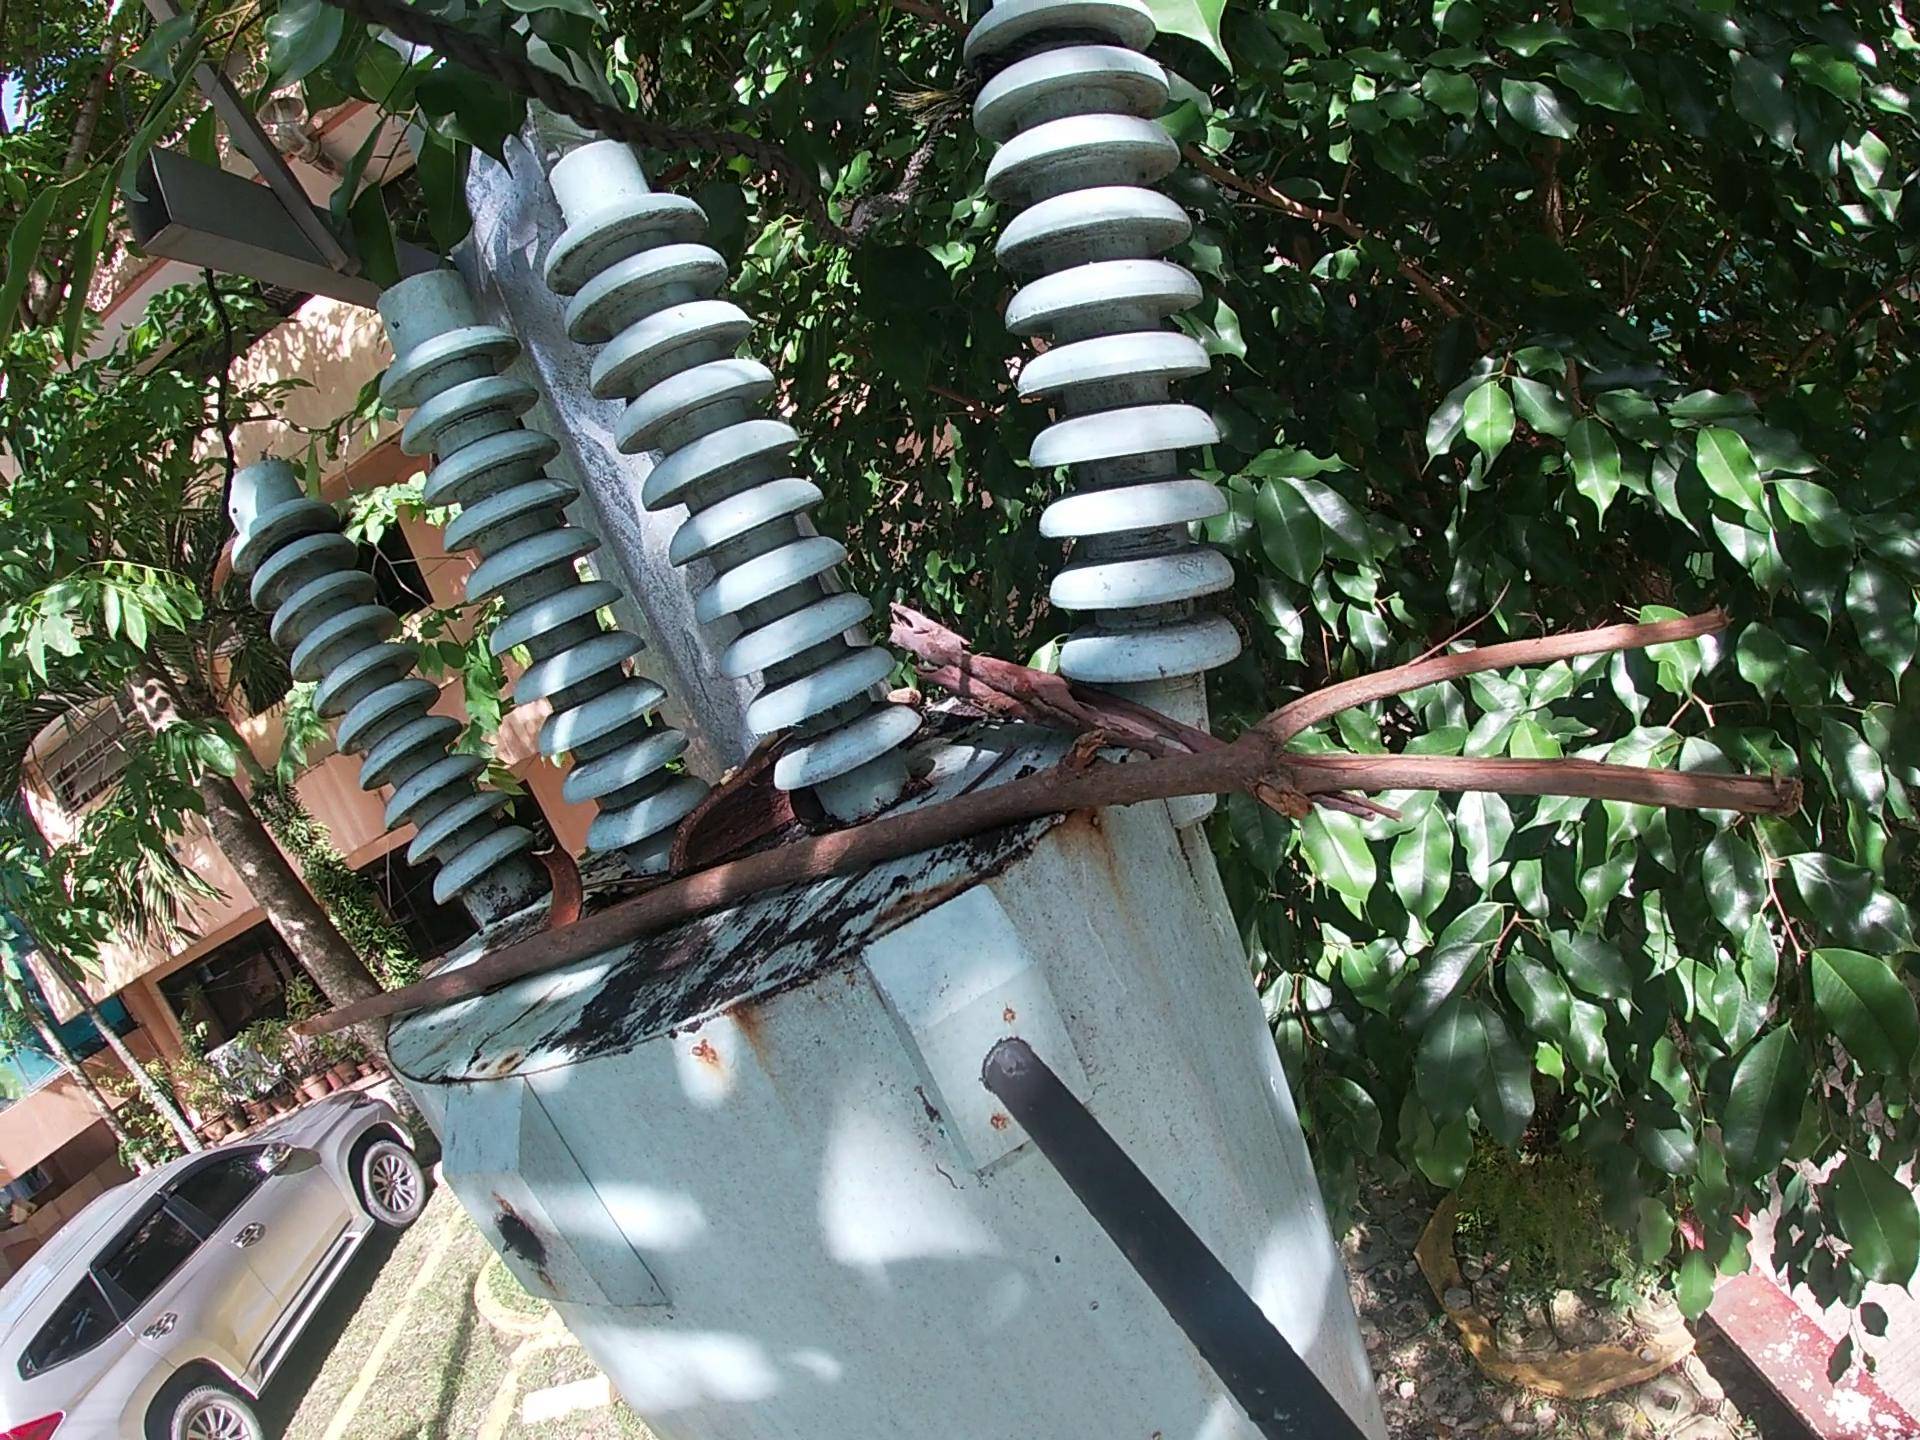mahogany fruit: (665, 728, 804, 883), (531, 838, 597, 936)
tree branch: (280, 591, 1813, 1050), (878, 594, 1411, 838)
